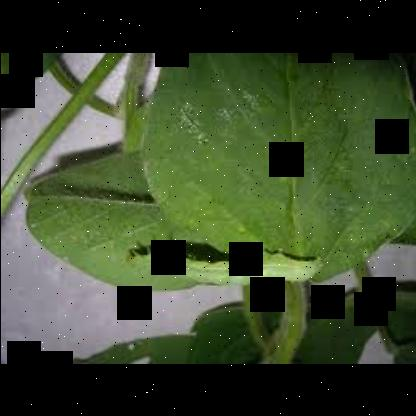oruga: (122, 245, 320, 285)
